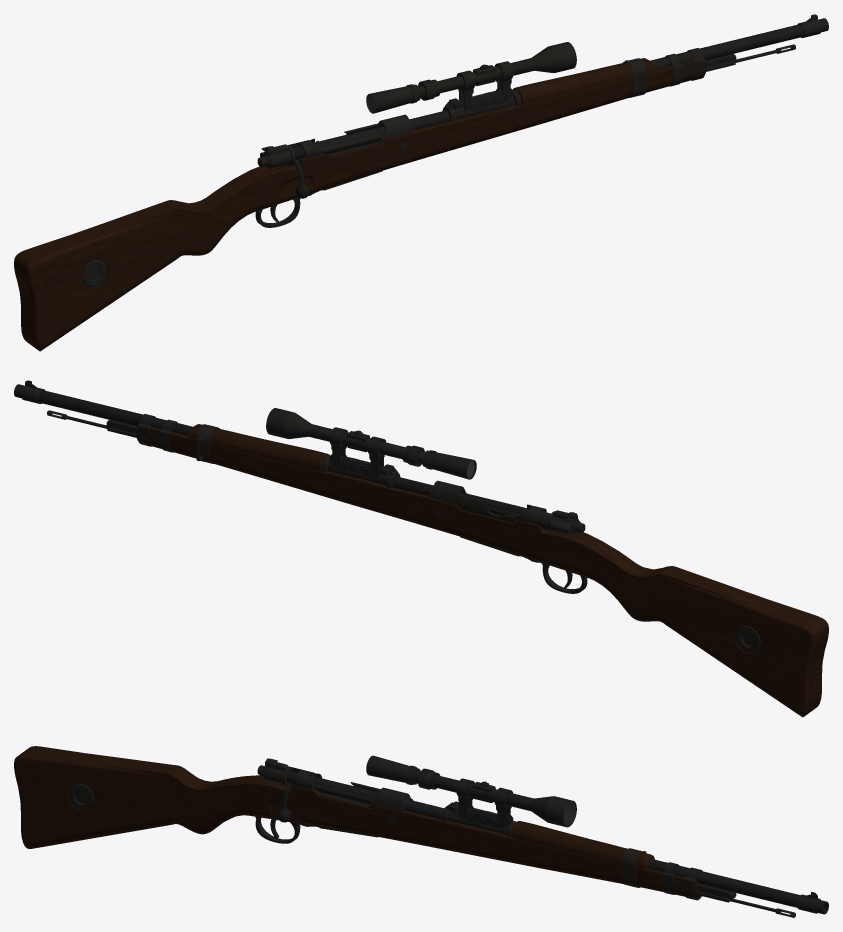
Rendered from Kar98k.glb.
The picture shows the model from 3 angles, top to bottom: view 1: azimuth 30°, elevation 25°; view 2: azimuth 150°, elevation 25°; view 3: azimuth 330°, elevation 25°; orthographic projection.
Visible parts, largest first — view 1: Corpo, Cano, Mira (5) (1), Corpo 2, Body3 (×2), Mira (3), Mira (2) (1), Body2, Gatilho; view 2: Corpo, Mira (5) (1), Cano, Corpo 2, Body3 (×2), Mira (3), Mira (2) (1), Body2, Gatilho; view 3: Corpo, Cano, Mira (5) (1), Corpo 2, Body3 (×2), Mira (3), Body2 (×2), Mira (2) (1), Gatilho, Body1, Body5, Carregador (+2 smaller).
Boxes of the visible parts, x1,y1,x2,y2 form: Corpo: (14, 60, 706, 351); Cano: (313, 18, 828, 148); Mira (5) (1): (366, 42, 576, 113); Corpo 2: (513, 58, 654, 105); Body3 (×2): (326, 44, 795, 156); Mira (3): (456, 61, 513, 111); Mira (2) (1): (665, 48, 705, 86); Body2: (257, 144, 295, 168); Gatilho: (255, 170, 382, 227); Corpo: (136, 426, 828, 717); Mira (5) (1): (266, 408, 476, 479); Cano: (14, 384, 529, 514); Corpo 2: (188, 424, 329, 471); Body3 (×2): (47, 410, 517, 522); Mira (3): (329, 427, 386, 477); Mira (2) (1): (137, 414, 177, 452); Body2: (547, 510, 585, 534); Gatilho: (460, 536, 587, 593); Corpo: (14, 746, 699, 898); Cano: (311, 776, 828, 914); Mira (5) (1): (366, 755, 576, 827); Corpo 2: (511, 821, 654, 869); Body3 (×2): (319, 782, 795, 917); Mira (3): (456, 778, 512, 829); Body2 (×2): (257, 758, 312, 822); Mira (2) (1): (662, 862, 702, 900); Gatilho: (250, 815, 378, 843); Body1: (621, 848, 646, 887); Body5: (69, 783, 94, 810); Carregador: (313, 784, 375, 804).
Size of the model in its own units: 0.8479 by 0.1757 by 0.0403.
Materials: 6 (4 with a texture image).
